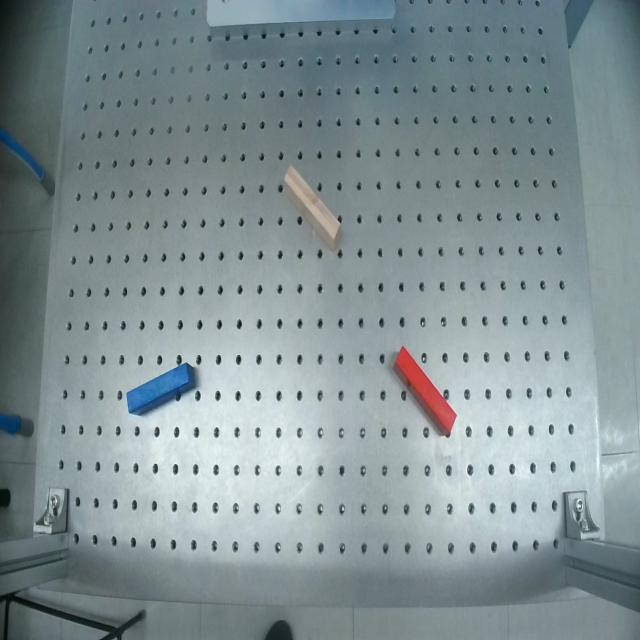blue: (119, 359, 202, 420)
red: (383, 346, 463, 438)
wood: (273, 165, 352, 252)
